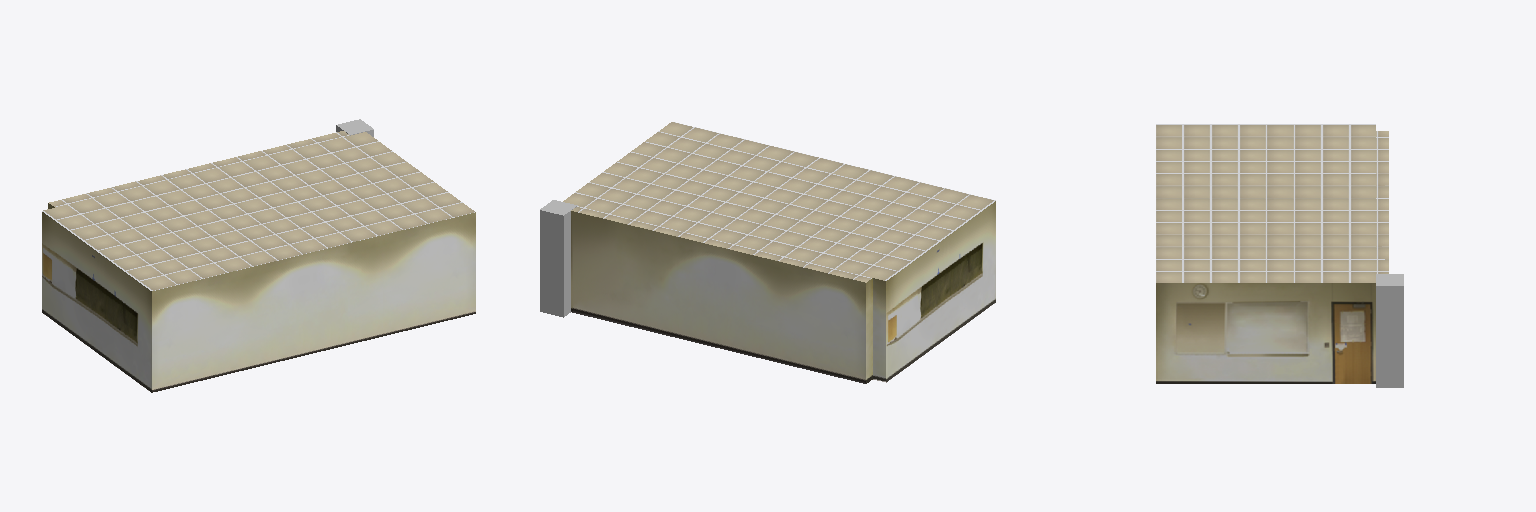
The picture shows the model from 3 angles: view 1: azimuth 30°, elevation 25°; view 2: azimuth 150°, elevation 25°; view 3: azimuth 270°, elevation 25°; orthographic projection.
Parts seen in each view (by area): view 1: Cube; view 2: Cube, corner1_Cube.001; view 3: Cube, corner1_Cube.001.
Boxes of the visible parts, <box> form: Cube: <box>42,131,475,392</box>; Cube: <box>563,122,995,383</box>; corner1_Cube.001: <box>540,200,577,317</box>; Cube: <box>1156,124,1388,383</box>; corner1_Cube.001: <box>1376,274,1403,387</box>.
Size of the model in its own units: 9.23 by 2.7 by 5.96.
2 materials, 1 textured.